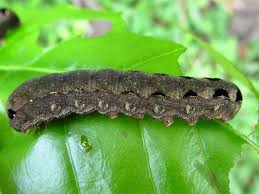Armyworm: (7, 62, 244, 143)
